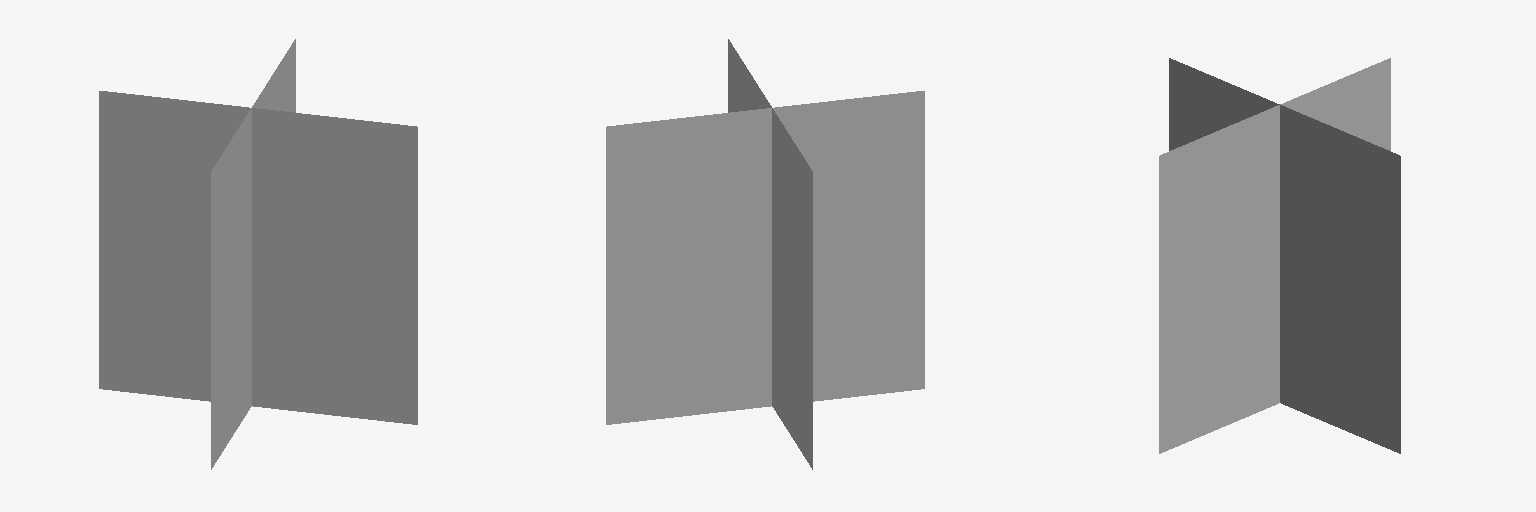
The model's file is chili_age2.obj.
3 renders of one model, left to right at view 1: azimuth 30°, elevation 25°; view 2: azimuth 150°, elevation 25°; view 3: azimuth 270°, elevation 25°, orthographic.
Size of the model in its own units: 0.7071 by 1 by 0.7374.